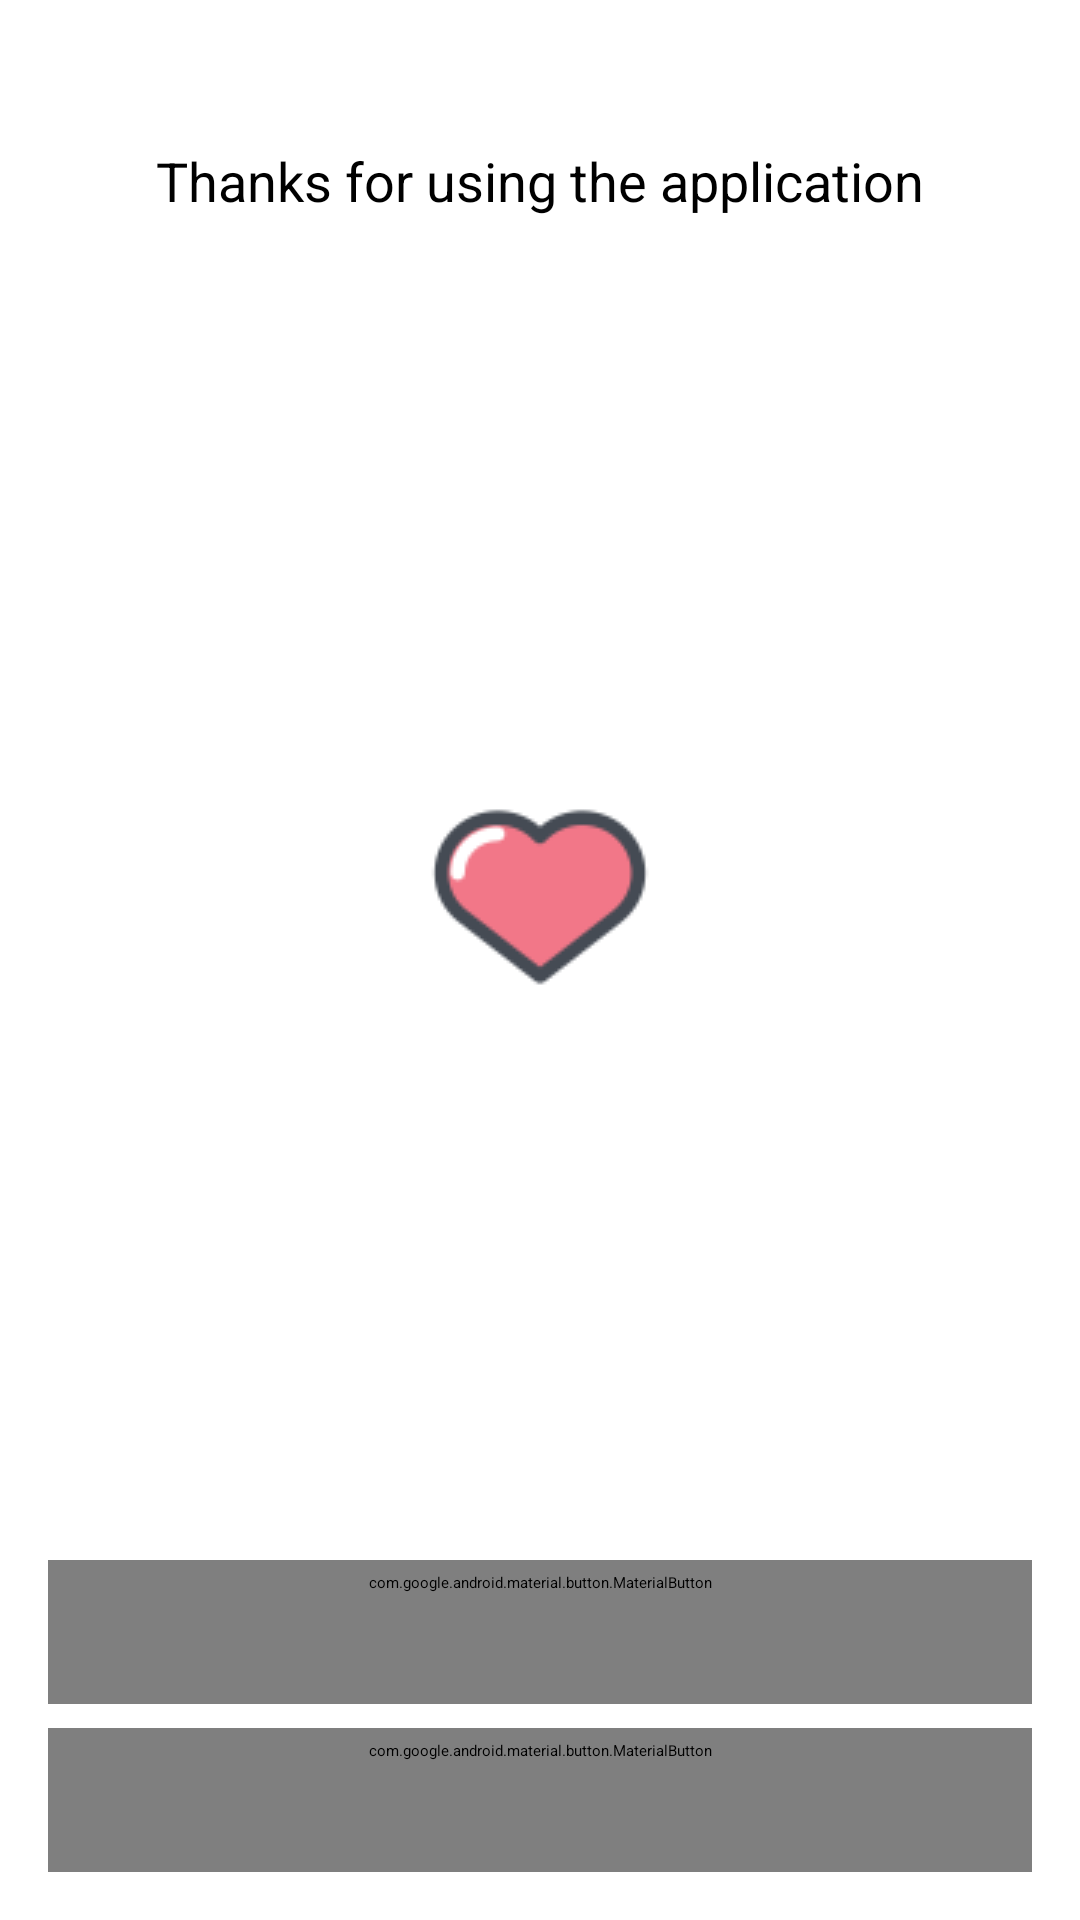

Where to tap for icons on this 1080w x 1920h app screen, as (x=x, y=y):
heart: (x=539, y=897)
